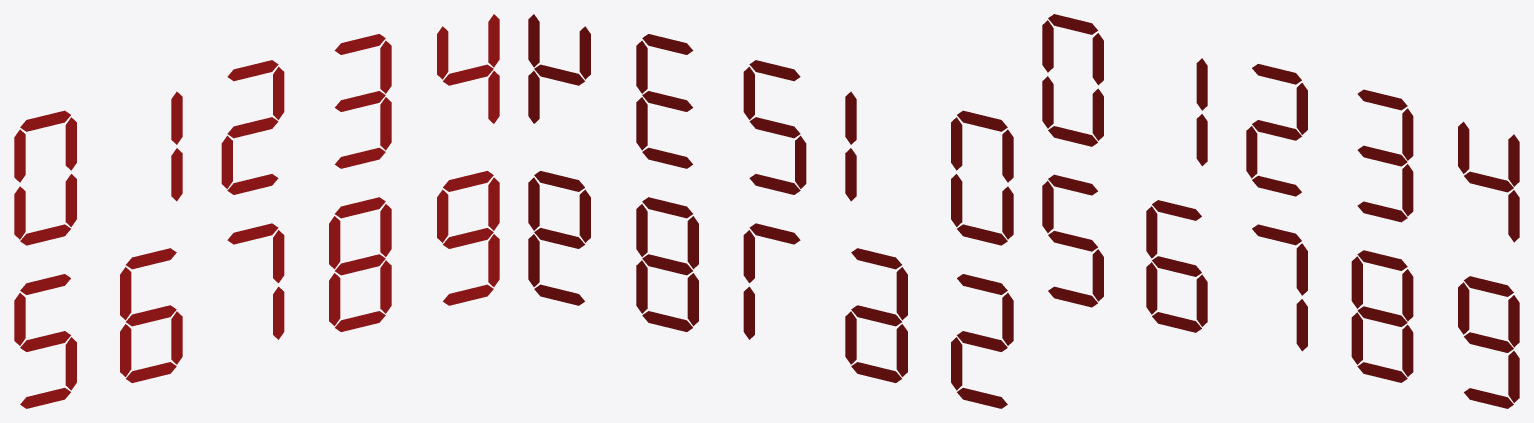
The model's file is scorenum1.fbx.
3 renders of one model, left to right at view 1: azimuth 30°, elevation 25°; view 2: azimuth 150°, elevation 25°; view 3: azimuth 330°, elevation 25°, orthographic.
Parts seen in each view (by area): view 1: 8, 0, 6, 9, 2, 3, 5, 4, 7, 1; view 2: 8, 0, 6, 9, 2, 3, 5, 4, 7, 1; view 3: 8, 0, 9, 6, 3, 5, 2, 4, 7, 1.
Boxes of the visible parts, x1,y1,x2,y2 form: 8: [329, 197, 391, 331]; 0: [14, 110, 76, 245]; 6: [120, 248, 182, 382]; 9: [437, 171, 499, 305]; 2: [221, 60, 284, 194]; 3: [334, 34, 391, 168]; 5: [14, 274, 76, 408]; 4: [437, 14, 499, 123]; 7: [227, 223, 284, 339]; 1: [171, 91, 182, 201]; 8: [636, 197, 698, 331]; 0: [951, 110, 1013, 245]; 6: [845, 248, 907, 382]; 9: [528, 171, 590, 305]; 2: [743, 60, 806, 194]; 3: [636, 34, 693, 168]; 5: [951, 274, 1013, 408]; 4: [528, 14, 590, 123]; 7: [743, 223, 800, 339]; 1: [845, 91, 856, 201]; 8: [1351, 250, 1413, 382]; 0: [1042, 14, 1103, 146]; 9: [1458, 276, 1519, 408]; 6: [1146, 200, 1207, 332]; 3: [1357, 89, 1413, 222]; 5: [1042, 174, 1103, 307]; 2: [1246, 64, 1307, 196]; 4: [1458, 121, 1519, 242]; 7: [1252, 224, 1307, 351]; 1: [1196, 58, 1207, 166].
Bounding box in the file's own units: 170 × 1.75e-07 × 96.97.
